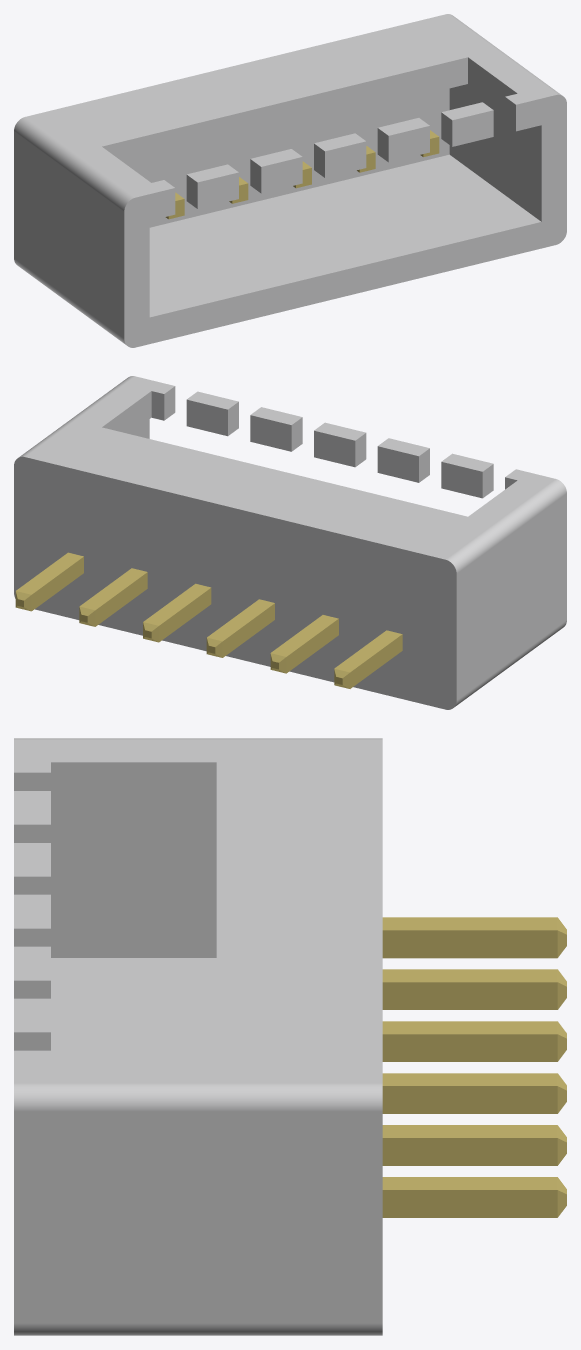
Rendered from jst_ph_6pin.glb.
3 renders of one model, top to bottom at view 1: azimuth 30°, elevation 25°; view 2: azimuth 150°, elevation 25°; view 3: azimuth 270°, elevation 25°, orthographic. The views are drawn at different scales.
Visible parts, largest first — view 1: world; view 2: world; view 3: world.
Part boxes in pixels (<box>): world: <box>14,14,566,347</box>; world: <box>14,376,566,709</box>; world: <box>14,738,566,1335</box>.
Size of the model in its own units: 13.9 by 4.5 by 9.
